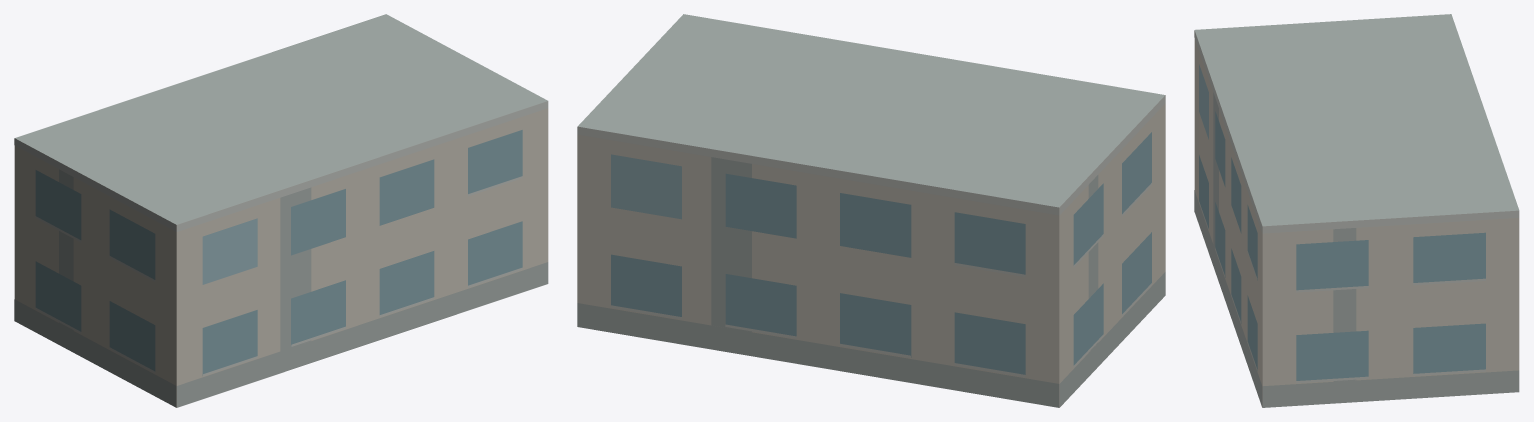
The model's file is residential-68c05fc3-34ab-49dc-a90f-457048886305.glb.
3 renders of one model, left to right at view 1: azimuth 30°, elevation 25°; view 2: azimuth 150°, elevation 25°; view 3: azimuth 270°, elevation 25°, orthographic. The views are drawn at different scales.
Visible parts, largest first — view 1: residential-68c05fc3-34ab-49dc-a90f-457048886305.tmp; view 2: residential-68c05fc3-34ab-49dc-a90f-457048886305.tmp; view 3: residential-68c05fc3-34ab-49dc-a90f-457048886305.tmp.
Boxes of the visible parts, x1,y1,x2,y2 form: residential-68c05fc3-34ab-49dc-a90f-457048886305.tmp: [14, 14, 548, 407]; residential-68c05fc3-34ab-49dc-a90f-457048886305.tmp: [577, 14, 1165, 407]; residential-68c05fc3-34ab-49dc-a90f-457048886305.tmp: [1194, 14, 1519, 407].
Size of the model in its own units: 15.31 by 6.1 by 9.91.
